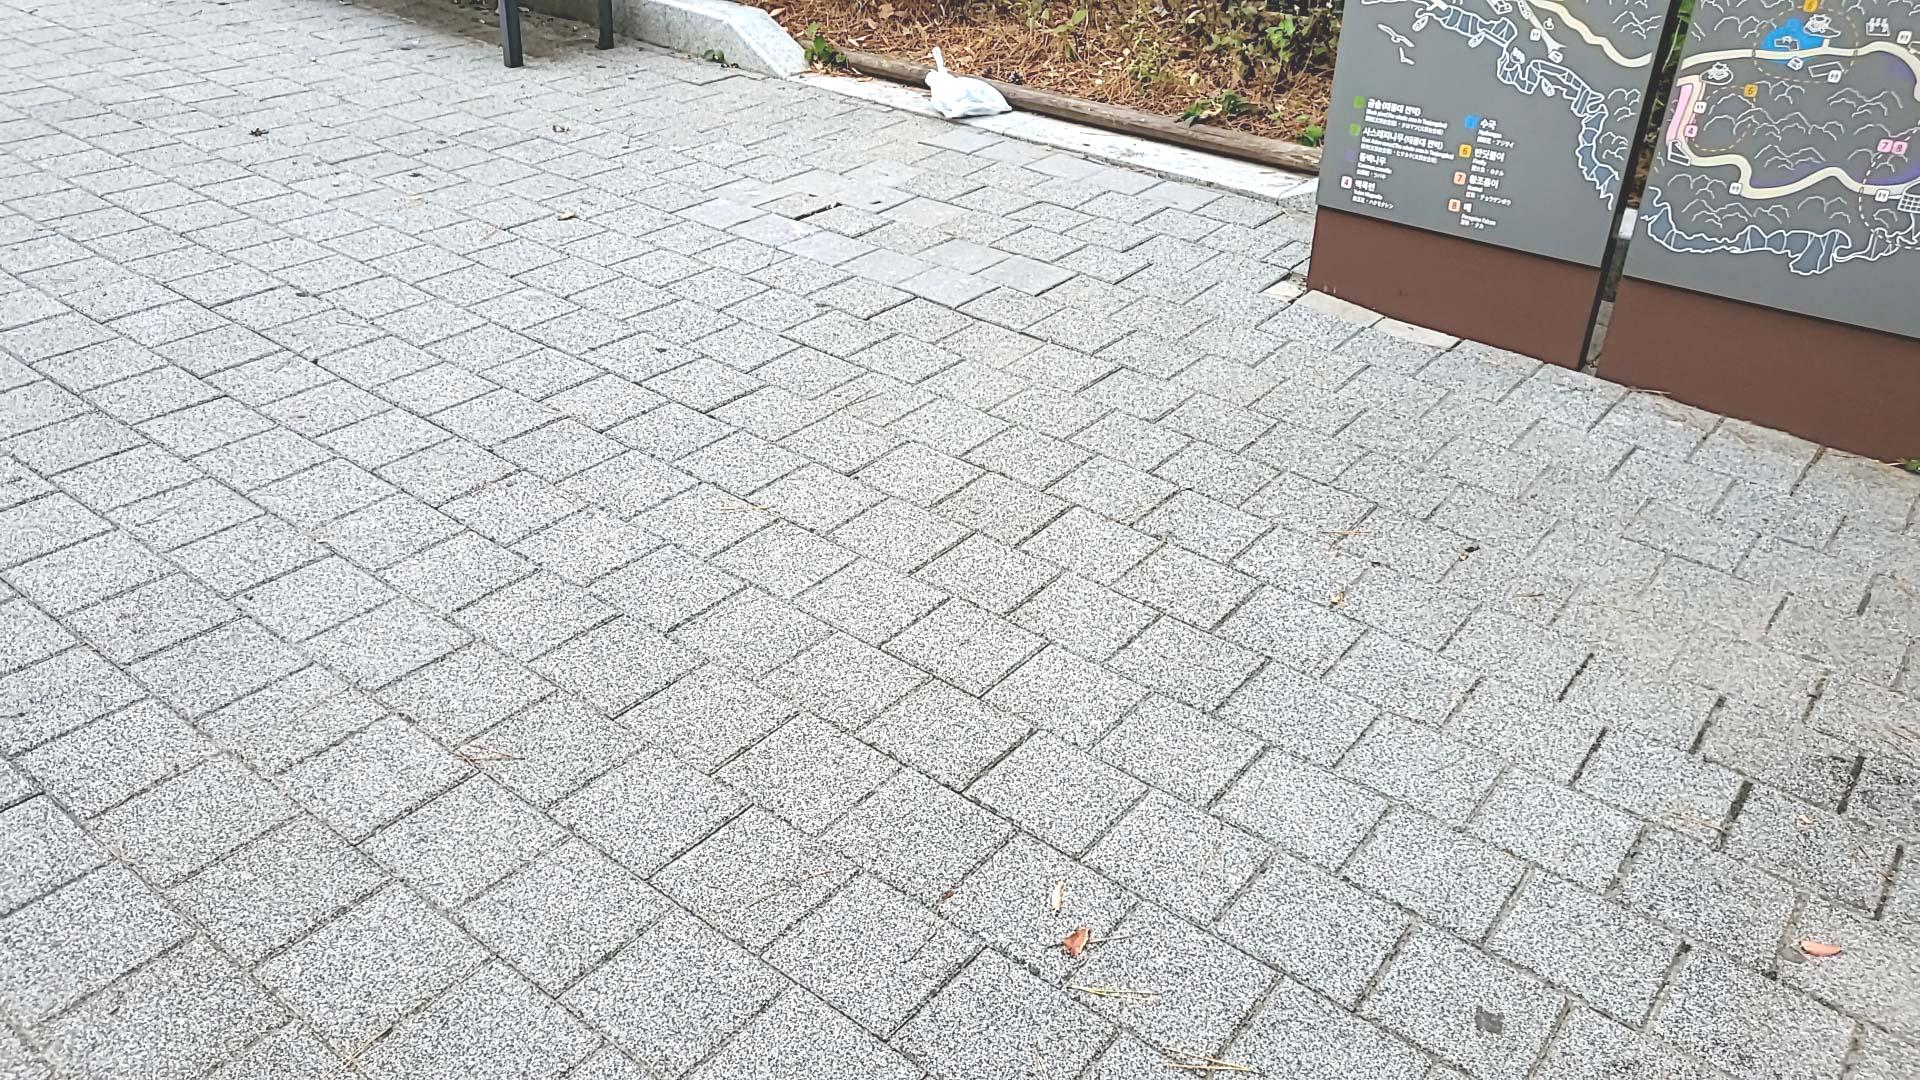white_bag: (913, 40, 1021, 127)
